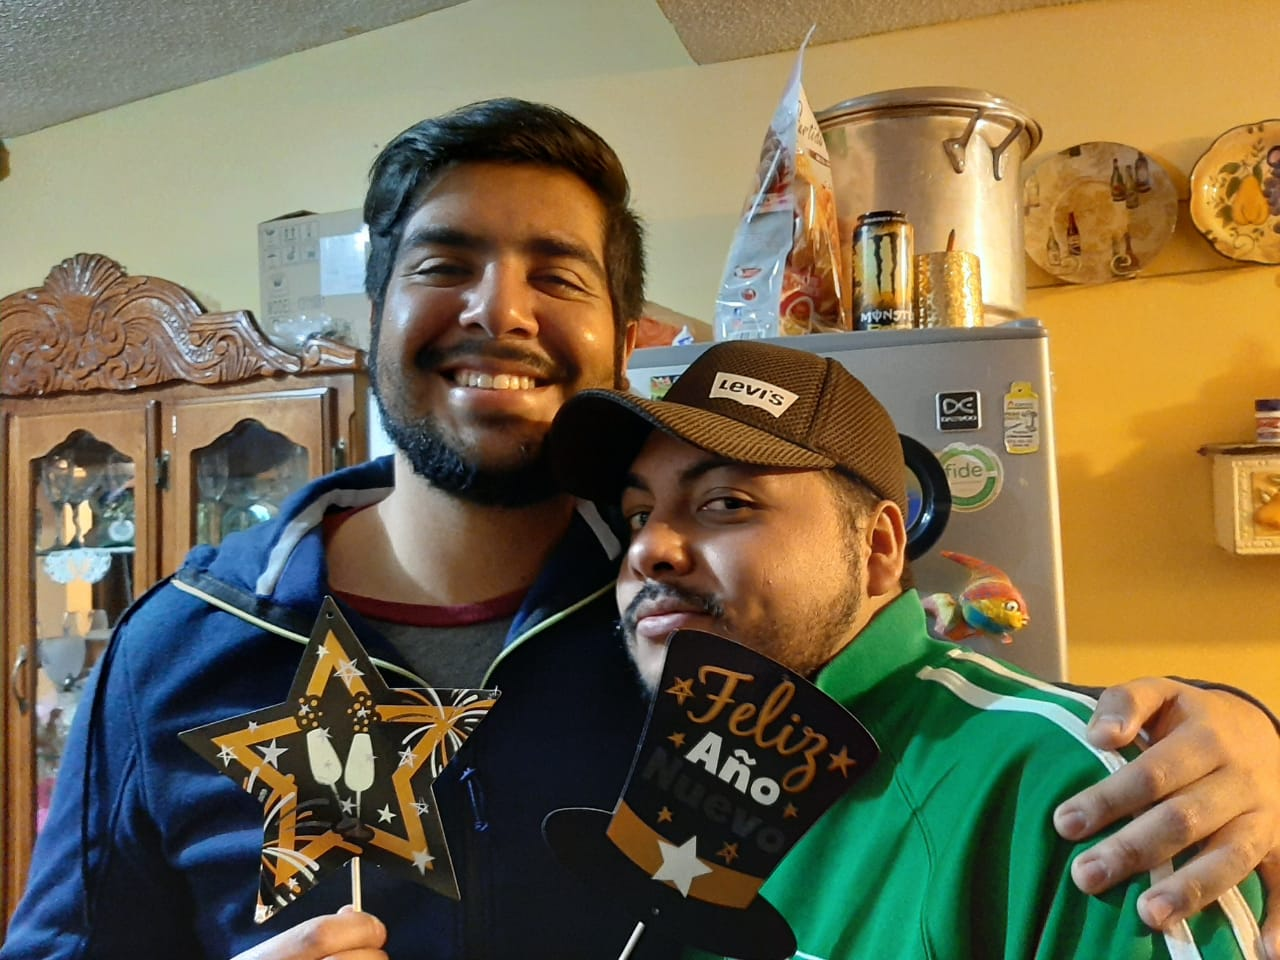Yoshi: (578, 320, 916, 774)
